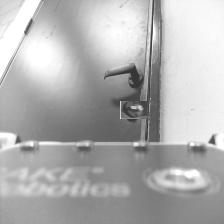Door Handle: (103, 62, 145, 86)
Lock: (123, 99, 145, 122)
